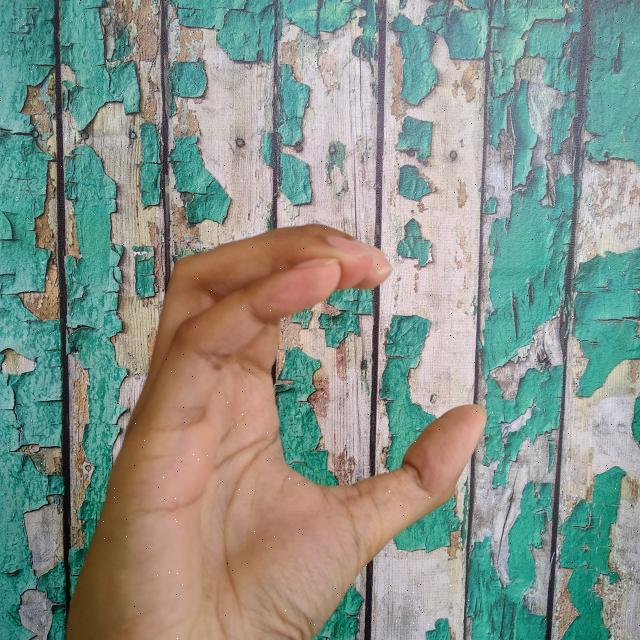C: (70, 218, 494, 640)
